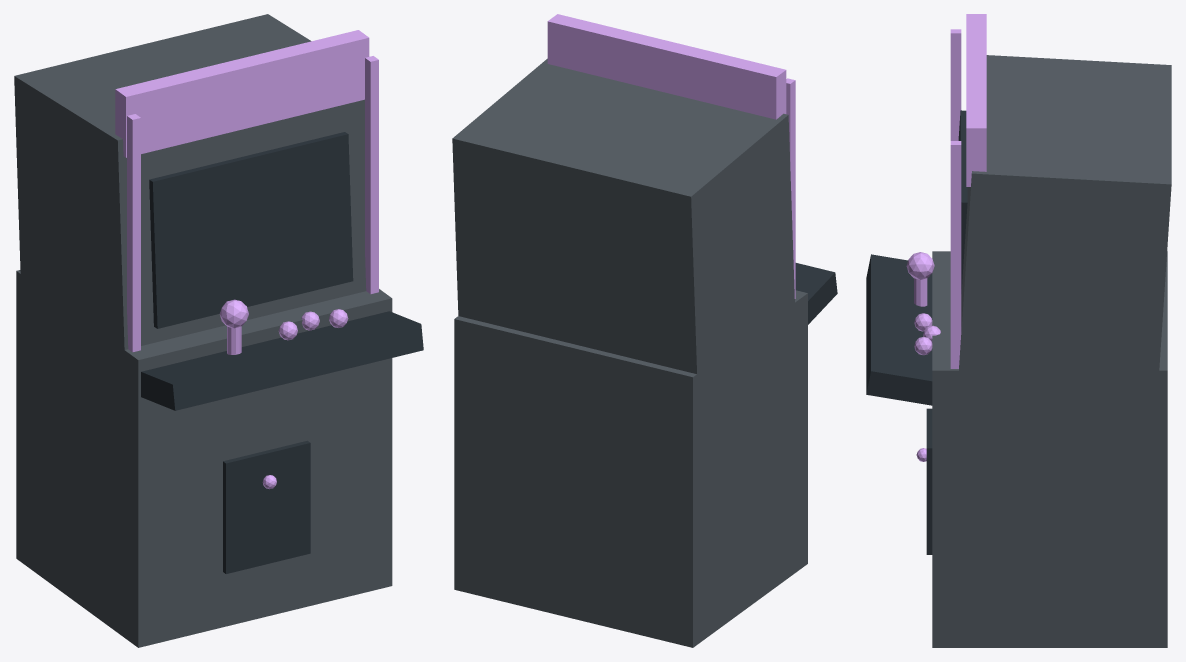
The model's file is arcade-cabinet-lod0.glb.
3 views of the same model, side by side, from view 1: azimuth 30°, elevation 25°; view 2: azimuth 150°, elevation 25°; view 3: azimuth 270°, elevation 25° (orthographic). The views are drawn at different scales.
Parts seen in each view (by area): view 1: lower_cabinet, upper_cabinet, screen, marquee, control_panel, coin_door, side_trim_1, side_trim_0, joystick_ball; view 2: lower_cabinet, upper_cabinet, marquee, control_panel, side_trim_0; view 3: lower_cabinet, upper_cabinet, control_panel, marquee, side_trim_1, side_trim_0, coin_door, screen, joystick_ball.
Boxes of the visible parts, x1,y1,x2,y2 form: lower_cabinet: [16, 270, 392, 647]; upper_cabinet: [14, 14, 366, 366]; screen: [149, 132, 353, 328]; marquee: [115, 30, 369, 157]; control_panel: [141, 311, 423, 410]; coin_door: [223, 440, 310, 573]; side_trim_1: [365, 56, 378, 294]; side_trim_0: [127, 114, 140, 352]; joystick_ball: [219, 299, 248, 328]; lower_cabinet: [454, 290, 807, 647]; upper_cabinet: [452, 58, 795, 399]; marquee: [547, 14, 786, 119]; control_panel: [795, 263, 837, 324]; side_trim_0: [786, 78, 795, 298]; lower_cabinet: [932, 251, 1167, 647]; upper_cabinet: [958, 55, 1171, 396]; control_panel: [866, 254, 932, 405]; marquee: [966, 14, 986, 186]; side_trim_1: [950, 141, 961, 368]; side_trim_0: [950, 29, 961, 140]; coin_door: [926, 408, 932, 554]; screen: [958, 110, 967, 293]; joystick_ball: [906, 252, 934, 279].
Size of the model in its own units: 4.8 by 9.7 by 5.19.
